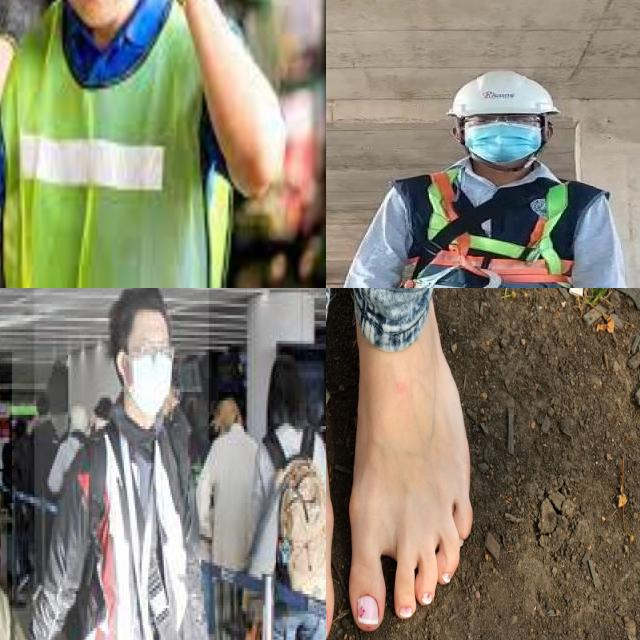Barefoots: (349, 288, 473, 632)
Ear-protection: (12, 0, 168, 45)
No_Ear-Protection: (442, 120, 467, 154), (550, 118, 561, 147)
face_mask: (462, 124, 545, 170), (129, 332, 170, 415)
head_nohelmet: (109, 288, 170, 326)
person: (336, 69, 631, 288), (34, 288, 210, 640)
